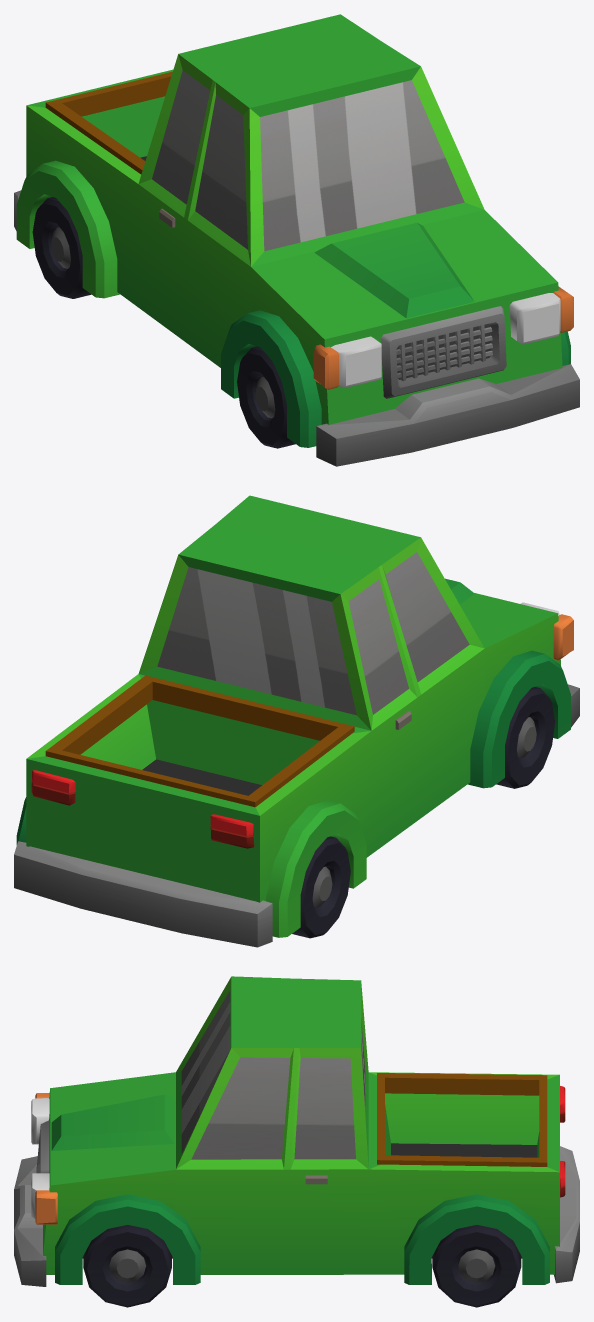
File: PickUp_2.glb
3 renders of one model, top to bottom at view 1: azimuth 30°, elevation 25°; view 2: azimuth 150°, elevation 25°; view 3: azimuth 270°, elevation 25°, orthographic. The views are drawn at different scales.
Parts seen in each view (by area): view 1: PickUp_2, BWhel_BR, BWhel_FR; view 2: PickUp_2, BWhel_BR, BWhel_FR; view 3: PickUp_2, BWhel_BL, BWhel_FL.
Boxes of the visible parts, x1,y1,x2,y2 form: PickUp_2: (14, 14, 579, 466); BWhel_BR: (32, 197, 91, 298); BWhel_FR: (237, 346, 295, 448); PickUp_2: (14, 495, 579, 947); BWhel_BR: (292, 836, 350, 938); BWhel_FR: (496, 687, 554, 788); PickUp_2: (14, 976, 579, 1286); BWhel_BL: (432, 1225, 521, 1307); BWhel_FL: (83, 1225, 171, 1307).
Bounding box in the file's own units: 1.09 × 1.08 × 2.3.
6 materials, 6 textured.
